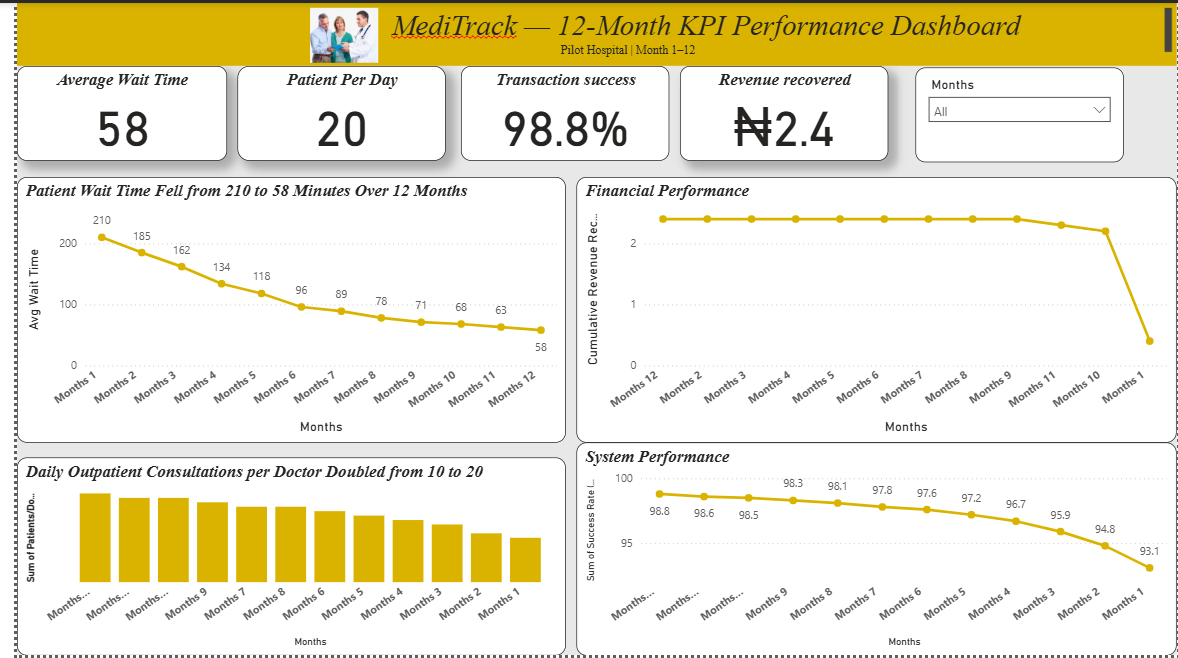

The page's visual inventory and layout, read from the dashboard file:
{"tool":"powerbi","page":{"name":"Page 1","canvas":[1280,720],"ordinal":0},"visuals":[{"type":"card","title":"Average Wait Time","fields":{"Values":["Data.Avg Wait Time"]},"box":[0,69.6,231.9,104.4],"z":0},{"type":"card","title":"Revenue recovered","fields":{"Values":["Data.Revenue Recovered"]},"box":[732.2,69.6,230.3,104.4],"z":1000},{"type":"card","title":"Patient Per Day","fields":{"Values":["Data.Patients Per Doctor"]},"box":[243.5,69.6,230.3,104.4],"z":2000},{"type":"lineChart","title":"Patient Wait Time Fell from 210 to 58 Minutes Over 12 Months","fields":{"Category":["Data.Months"],"Y":["Data.Avg Wait Time"]},"box":[0,192.2,606.3,293.2],"z":3000},{"type":"clusteredColumnChart","title":" Daily Outpatient Consultations per Doctor Doubled from 10 to 20","fields":{"Category":["Data.Months"],"Y":["Sum(Data.Patients/Doctor/Day)"]},"box":[0,501.9,606.3,218.7],"z":4000},{"type":"card","title":"Transaction success","fields":{"Values":["Data.Success Rate"]},"box":[490.3,69.6,230.3,104.4],"z":5000},{"type":"textbox","box":[0,0,1280.5,69.6],"z":6000},{"type":"lineChart","title":"Financial Performance","fields":{"Category":["Data.Months"],"Y":["Data.Cumulative Revenue Recovered"]},"box":[617.9,192.2,662.6,293.2],"z":7000},{"type":"lineChart","title":" System Performance","fields":{"Category":["Data.Months"],"Y":["Sum(Data.Success Rate (%))"]},"box":[617.9,485.3,662.6,235.2],"z":8000},{"type":"slicer","title":"Sucess Rate","fields":{"Values":["Data.Months"]},"box":[992.2,71.2,230.3,104.4],"z":9000},{"type":"image","box":[284.9,0,152.4,71.2],"z":9001}]}

Visuals, with their boxes in screenshot pixels (x1, y1, x2, y2), scaled from the page's 1280x720 canvas onto the 1178x658 screenshot:
"Average Wait Time" card: [x1=0, y1=64, x2=213, y2=159]
"Revenue recovered" card: [x1=674, y1=64, x2=886, y2=159]
"Patient Per Day" card: [x1=224, y1=64, x2=436, y2=159]
"Patient Wait Time Fell from 210 to 58 Minutes Over 12 Months" lineChart: [x1=0, y1=176, x2=558, y2=444]
" Daily Outpatient Consultations per Doctor Doubled from 10 to 20" clusteredColumnChart: [x1=0, y1=459, x2=558, y2=657]
"Transaction success" card: [x1=451, y1=64, x2=663, y2=159]
textbox: [x1=0, y1=0, x2=1177, y2=64]
"Financial Performance" lineChart: [x1=569, y1=176, x2=1177, y2=444]
" System Performance" lineChart: [x1=569, y1=444, x2=1177, y2=657]
"Sucess Rate" slicer: [x1=913, y1=65, x2=1125, y2=160]
image: [x1=262, y1=0, x2=402, y2=65]
